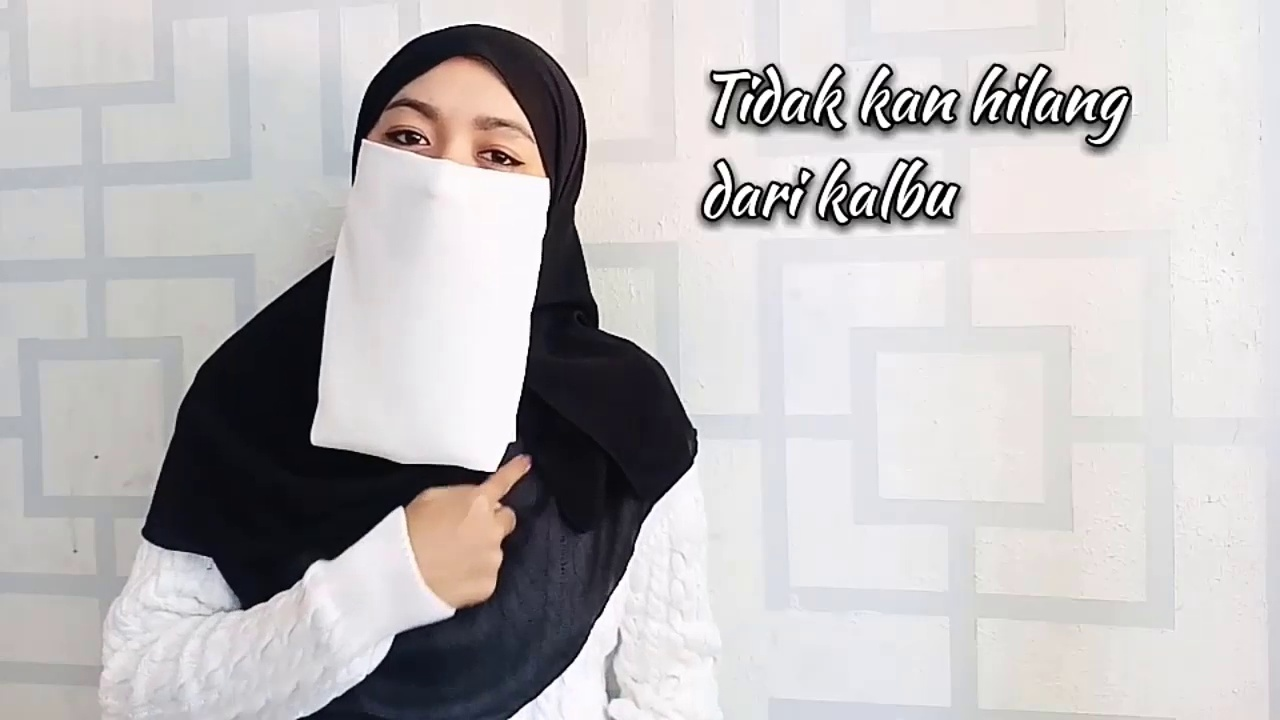KALBU: (366, 325, 696, 679)
